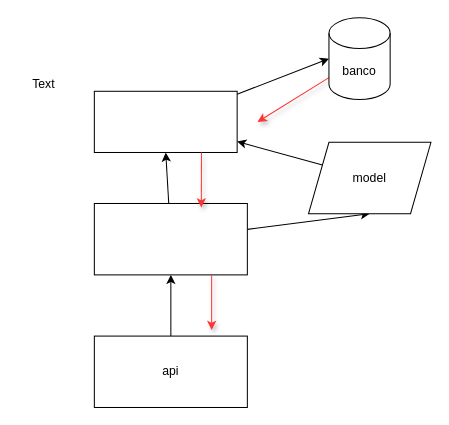
This 449x425 diagram has some shape labels left out. The shapes that lost their labels are listed below. From the top down, each one's centre as x and y in pixels, then its label:
At [165,121]: "repository".
At [170,238]: "controller".
